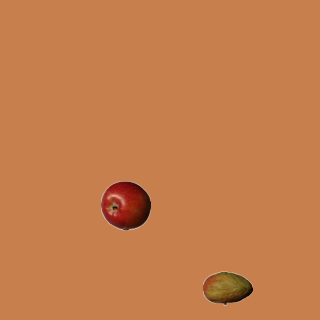Apple Braeburn: (100, 180, 150, 230)
Papaya: (202, 263, 252, 313)
